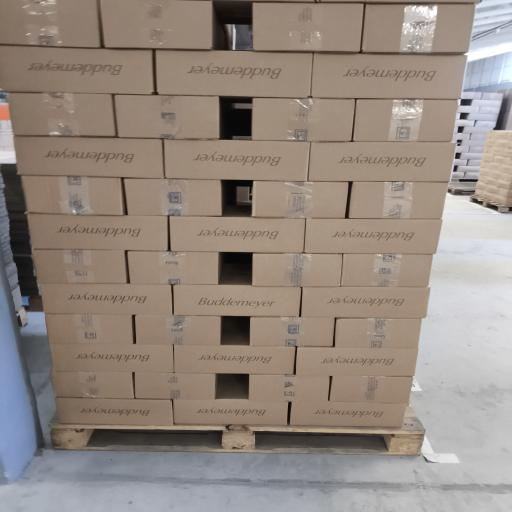pallet: (50, 407, 424, 455), (470, 196, 511, 212), (448, 182, 476, 195)
